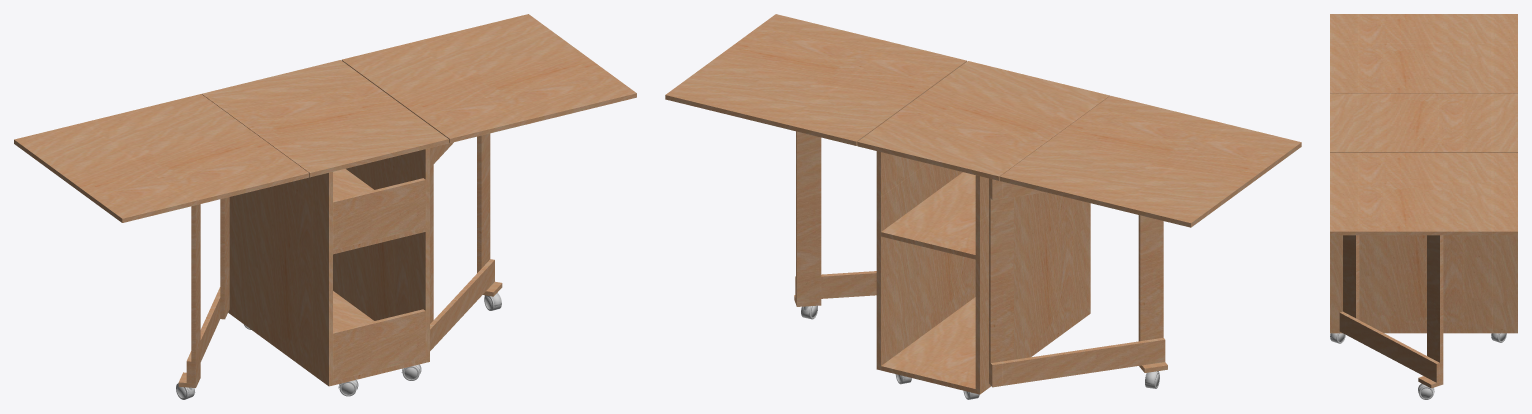
File: mt-estefania.glb
3 views of the same model, side by side, from view 1: azimuth 30°, elevation 25°; view 2: azimuth 150°, elevation 25°; view 3: azimuth 270°, elevation 25° (orthographic). The views are drawn at different scales.
Size of the model in its own units: 2.22 by 0.9707 by 0.81.
4 materials, 2 textured.
